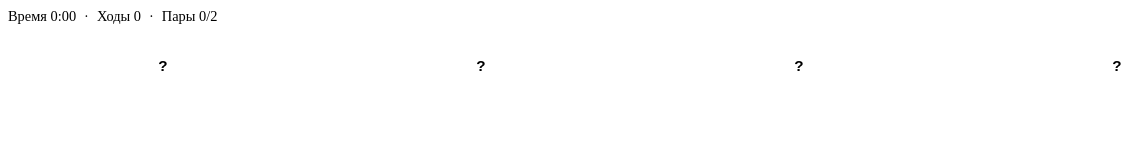
таймер стартует с первого клика и тикает
Check: the text "Время 0:00" is shown, box [8,8,76,25]
Click the 1st button with class "mp-card" at [163, 65], box [8,37,318,93]
Wait 2000 ms
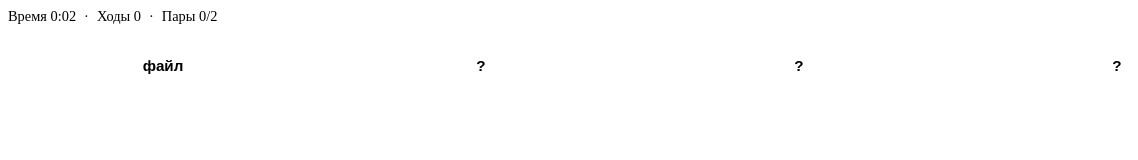
Check: the text "Время 0:02" is shown, box [8,8,76,25]
